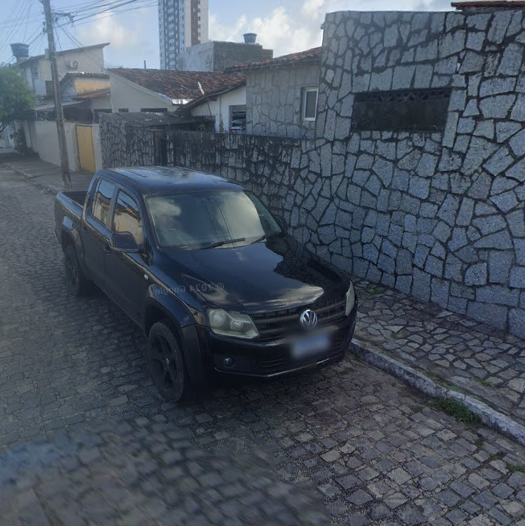car: (45, 161, 359, 417)
